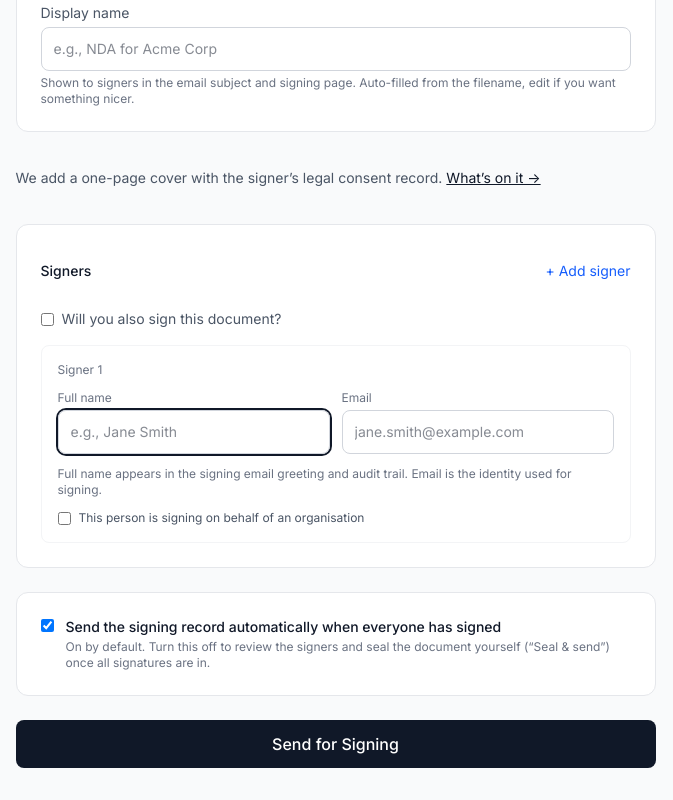
Scenario: CreateEnvelopePage — "signing on behalf of an organisation" (F-22.2 / AC-68) › hides the organisation input until the box is checked, then reveals it
(page scrolled)
Expected: the field with placeholder "e.g., Acme Corp" is not shown
Click the checkbox labelled "This person is signing on behalf of an organisation" at {"x": 64, "y": 518}, box [58,512,70,524]
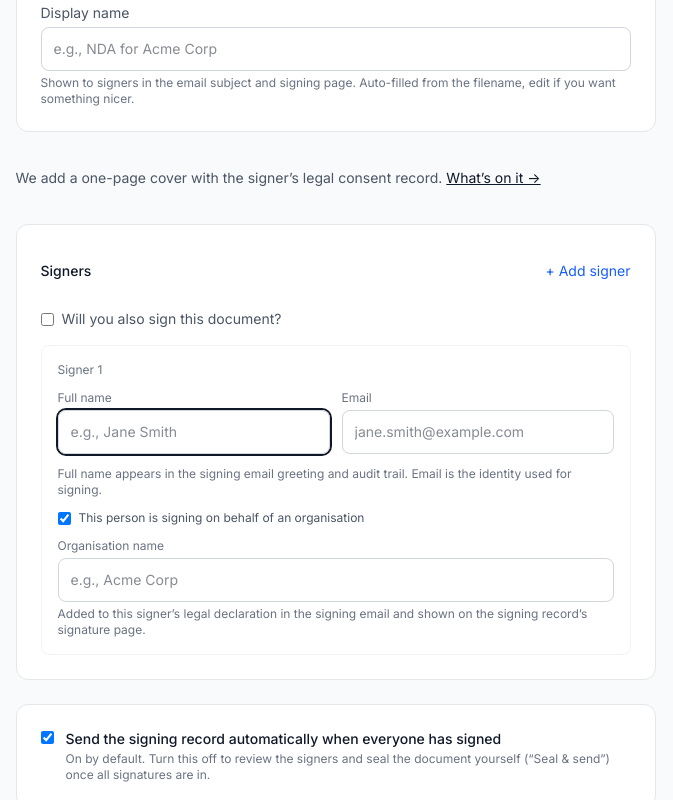
Expected: the field with placeholder "e.g., Acme Corp" is shown, [58,558,614,602]
